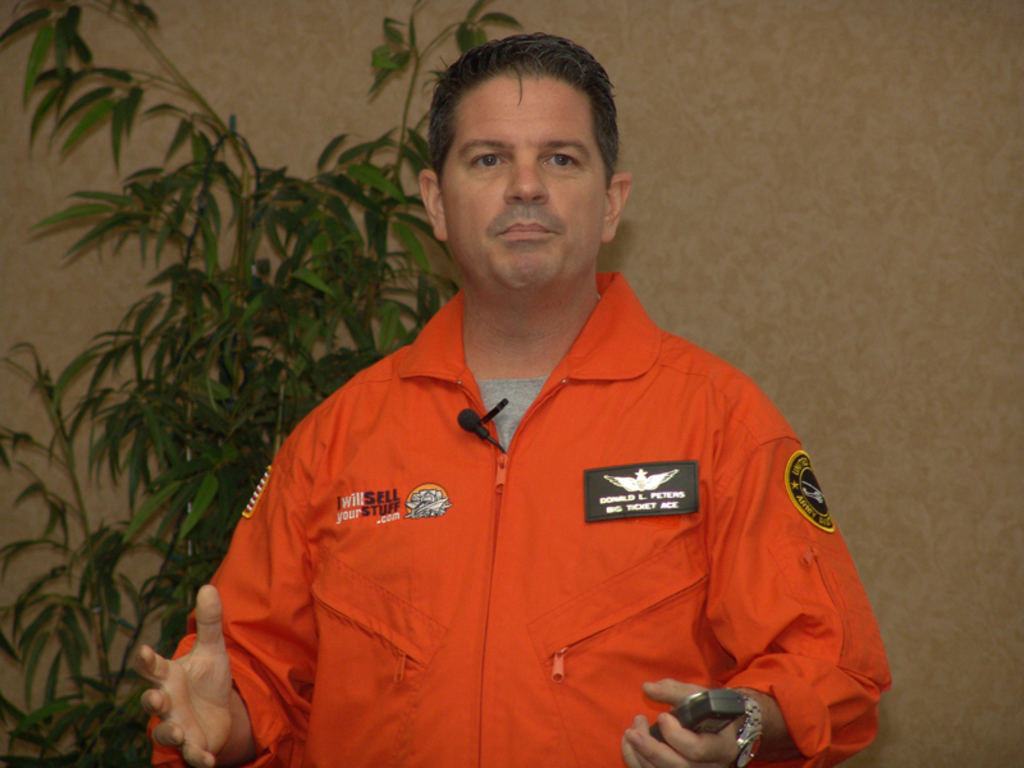Human_hand: (127, 623, 250, 767), (621, 680, 749, 767)
